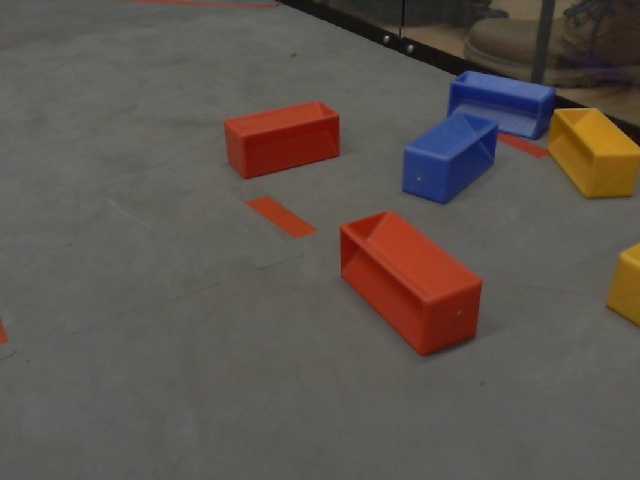BlueSample: (402, 110, 500, 203), (443, 70, 556, 141)
RedSample: (337, 208, 485, 360), (223, 100, 344, 177)
YellowSample: (546, 100, 640, 203), (603, 235, 640, 331)
